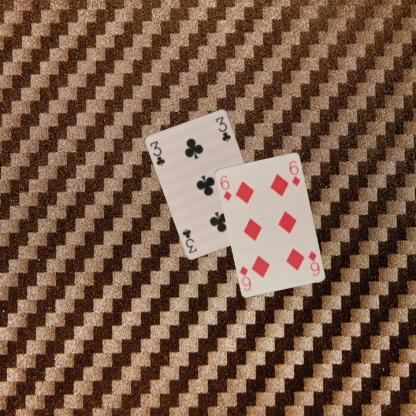3c: (148, 138, 166, 167)
6d: (306, 248, 322, 278), (218, 172, 233, 202)
